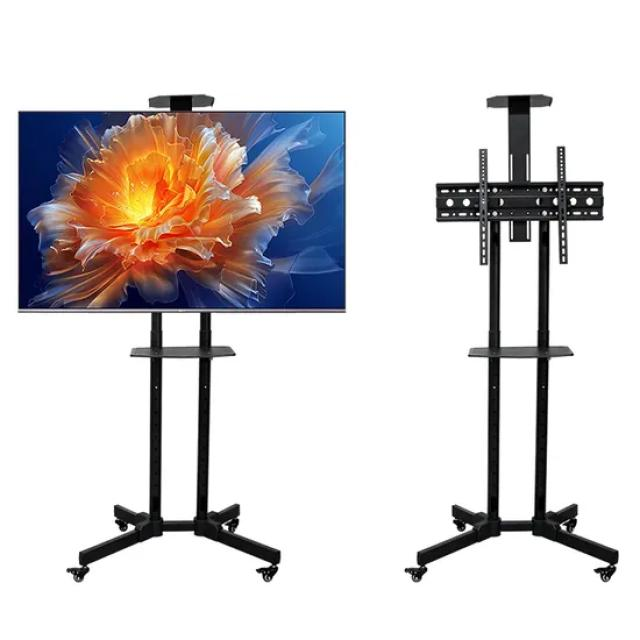electronics: (21, 94, 342, 579), (405, 93, 616, 579), (17, 112, 342, 310), (28, 247, 33, 258), (21, 246, 22, 247)
